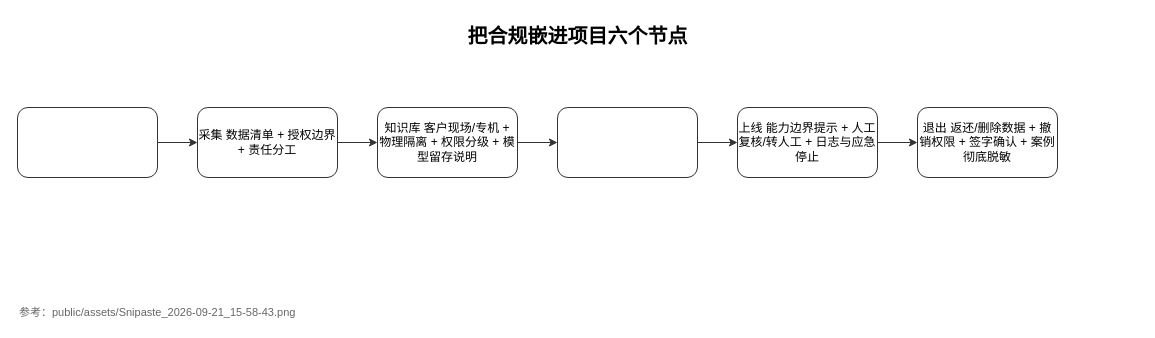
Some shapes in this 1155 by 338 pixel diagram are drawn without their labels. Each missing label, with the centre of its shape:
售前 只拿最小脱敏样本: the point at 87,142
开发 依赖与源码审查 + 许可证台账: the point at 627,142
